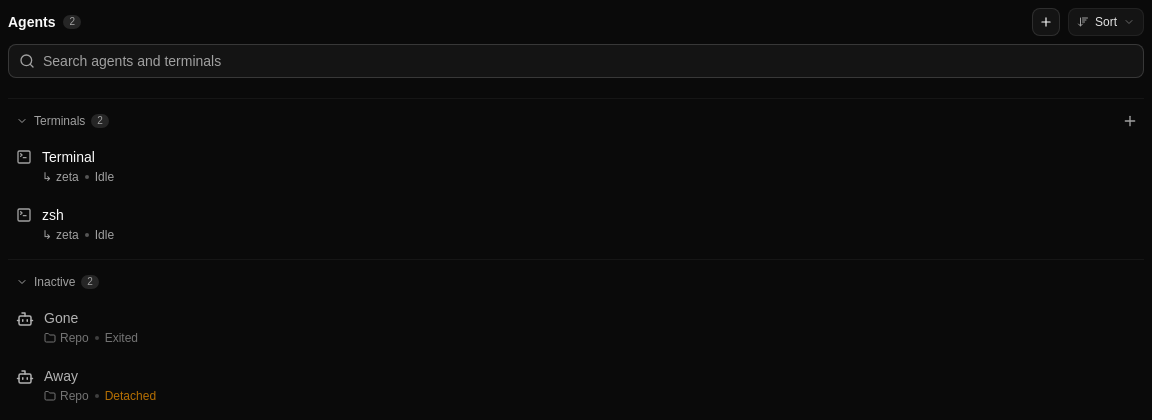
Test: FlatAgentList inactive tail auto-open › a manual collapse wins over the automation and sticks
Click the text "Inactive": (55, 282) [34,274,75,290]
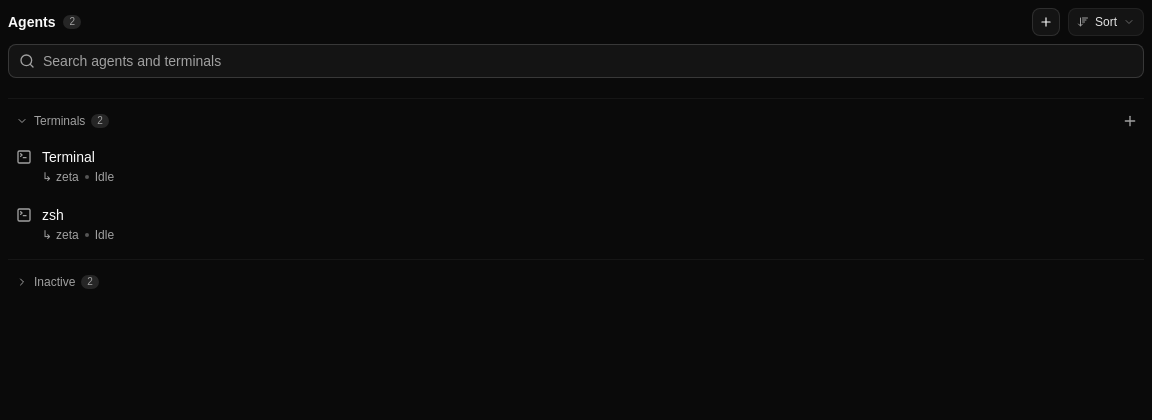
Result: the button "Gone" is gone
